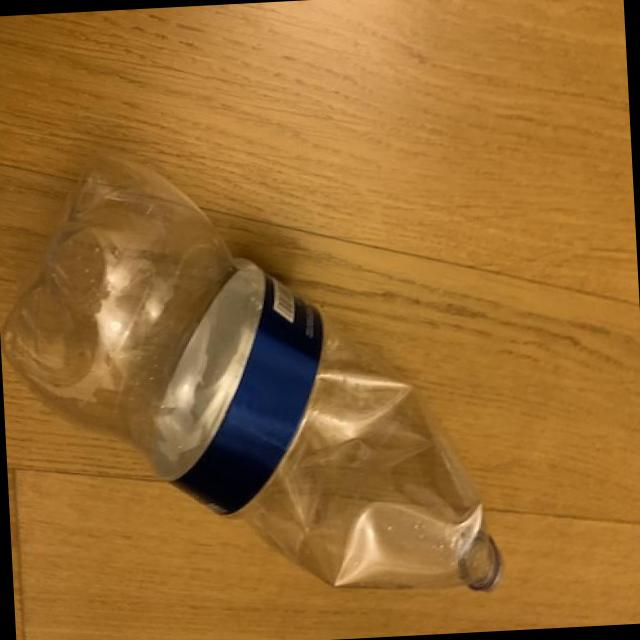plastic_bottle: (0, 134, 506, 619)
